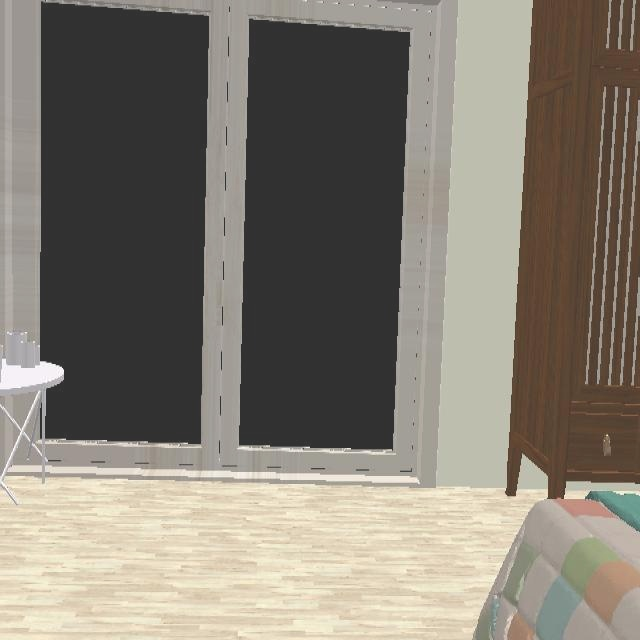bed: (474, 492, 639, 638)
table: (0, 345, 63, 504)
wardrobe: (507, 0, 639, 497)
